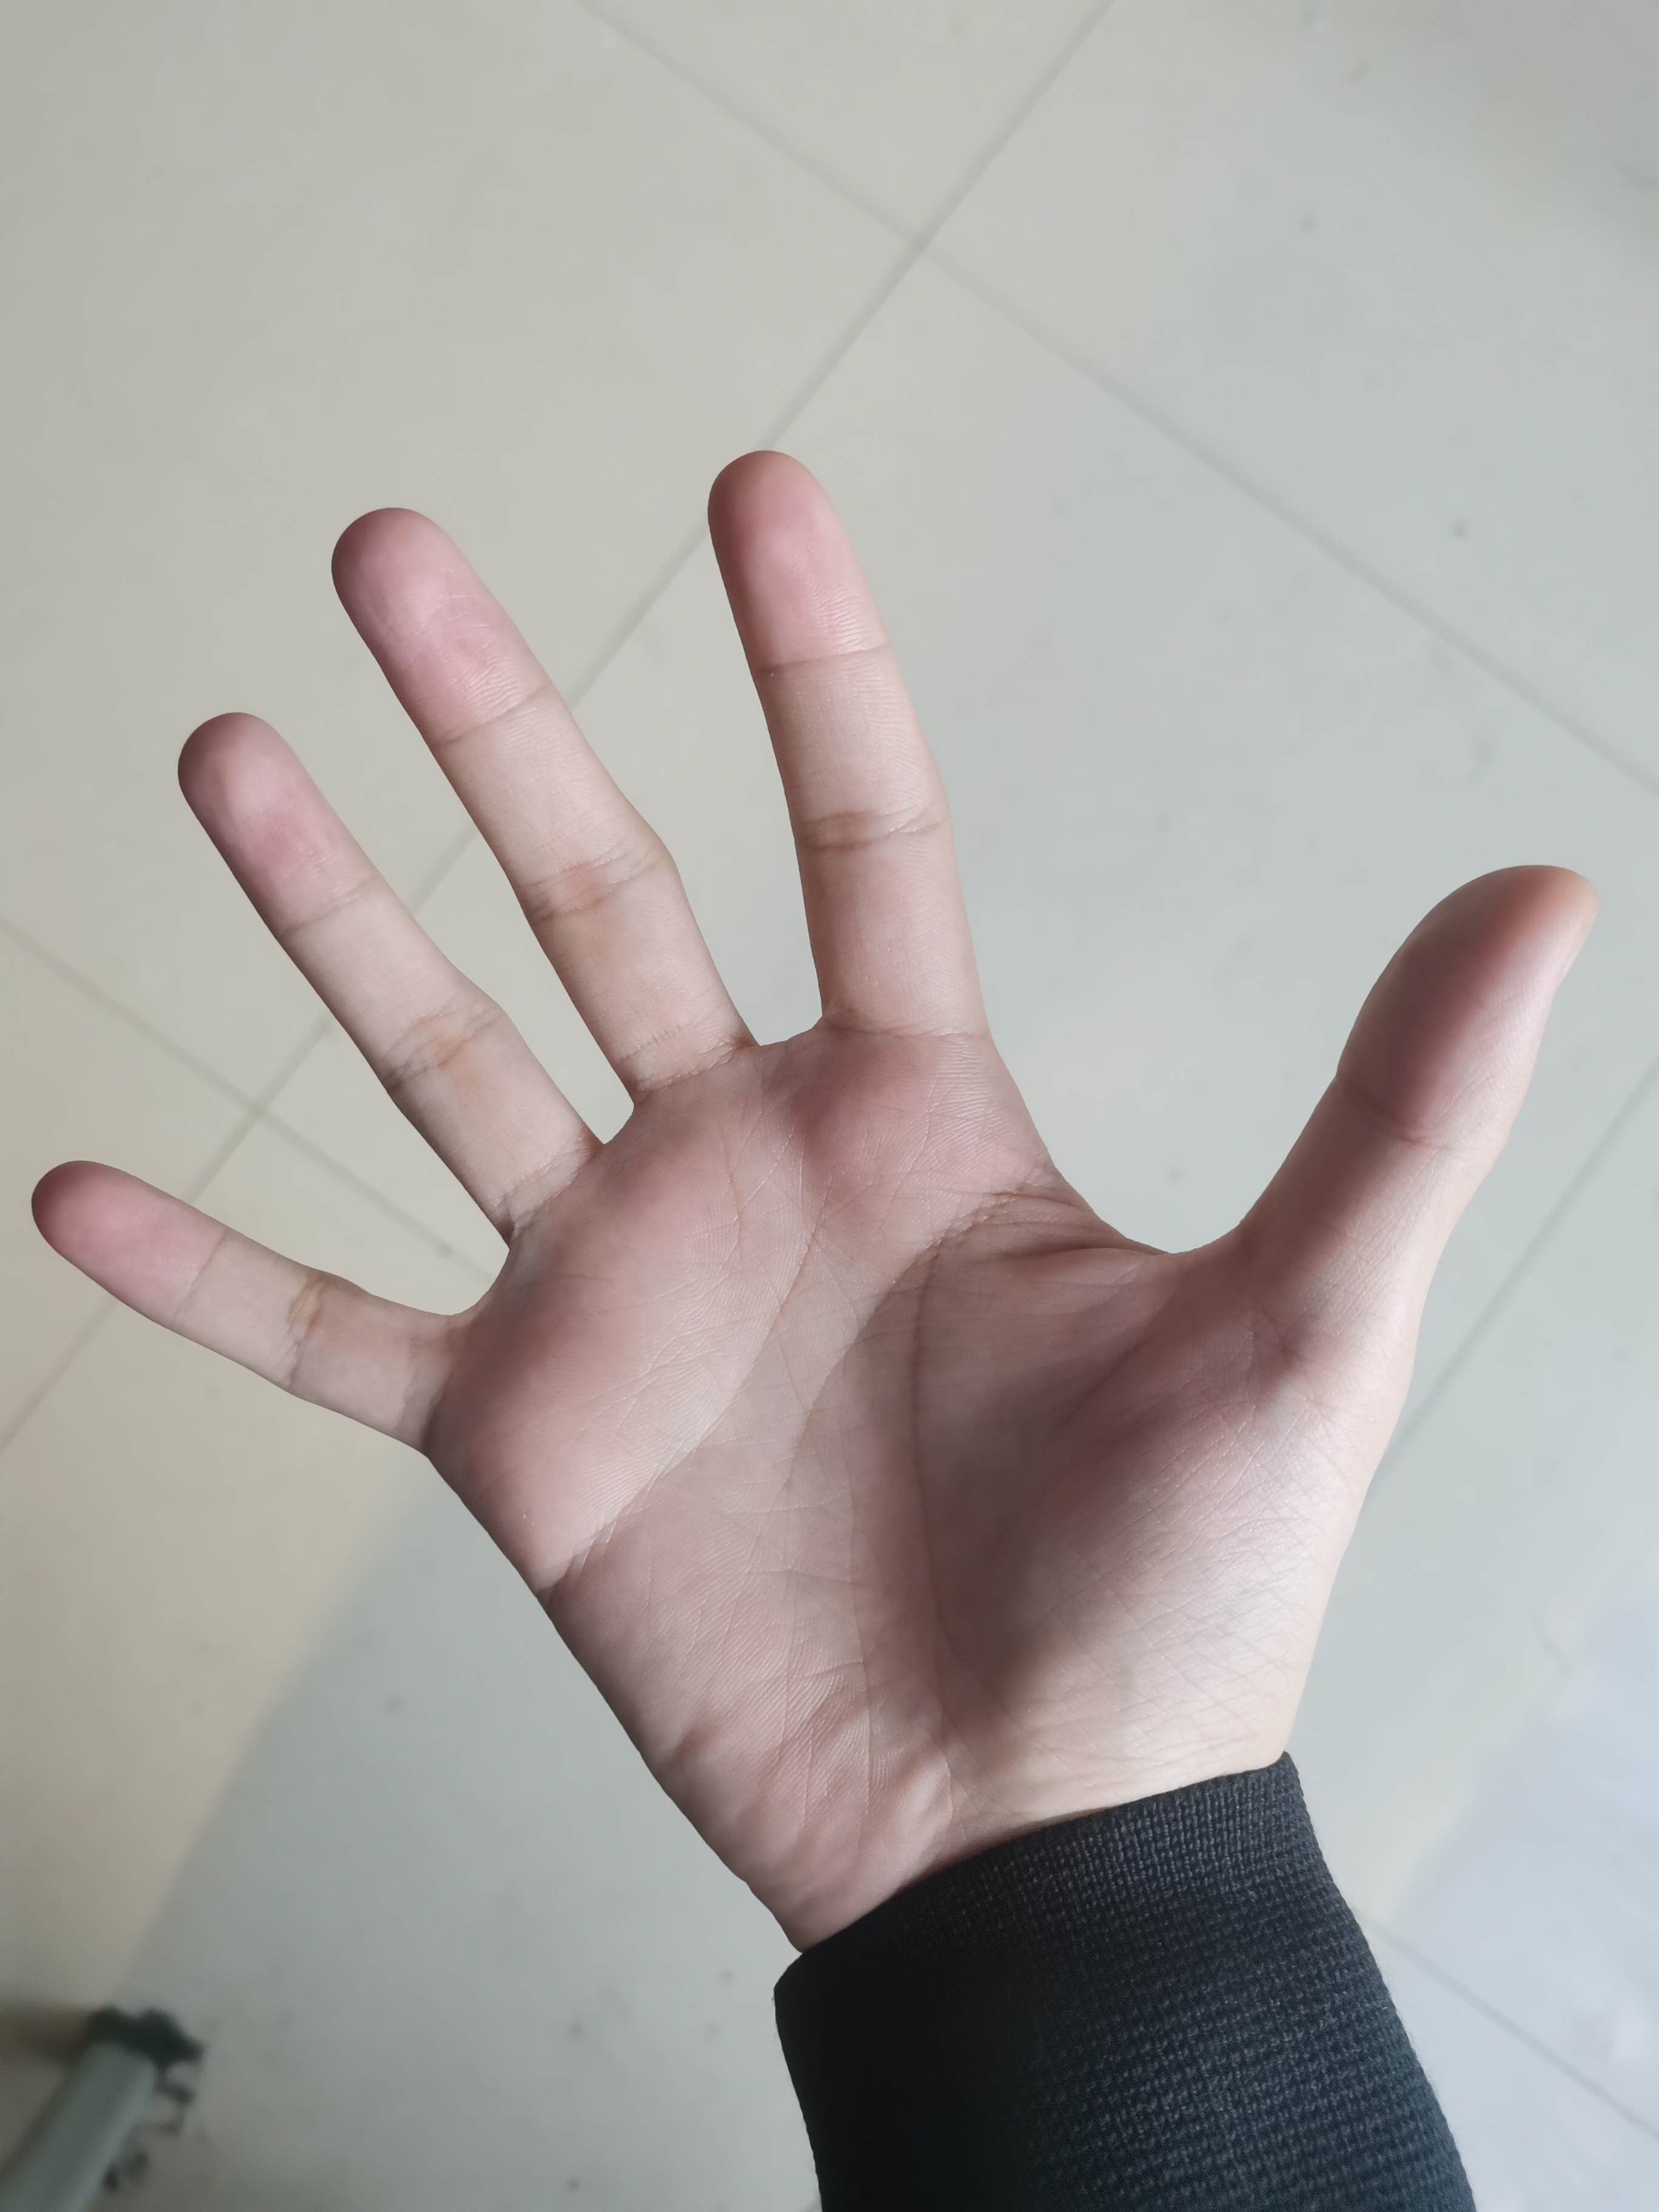no-phone: (17, 409, 1631, 1928)
